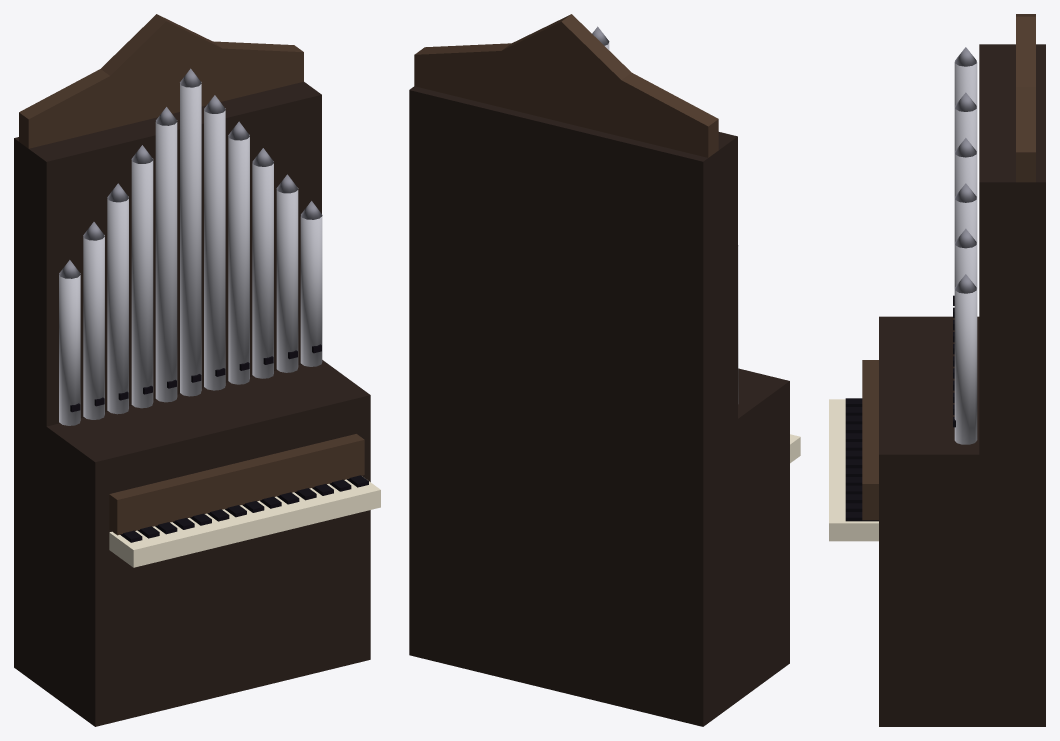
Rendered from pipe_organ.glb.
3 views of the same model, side by side, from view 1: azimuth 30°, elevation 25°; view 2: azimuth 150°, elevation 25°; view 3: azimuth 270°, elevation 25° (orthographic). The views are drawn at different scales.
Visible parts, largest first — view 1: pipe_organ; view 2: pipe_organ; view 3: pipe_organ.
Part boxes in pixels (x1=…): pipe_organ: x1=14, y1=14, x2=380, y2=726; pipe_organ: x1=409, y1=14, x2=800, y2=726; pipe_organ: x1=829, y1=14, x2=1045, y2=726.
Size of the model in its own units: 0.98 by 2.12 by 0.65.
